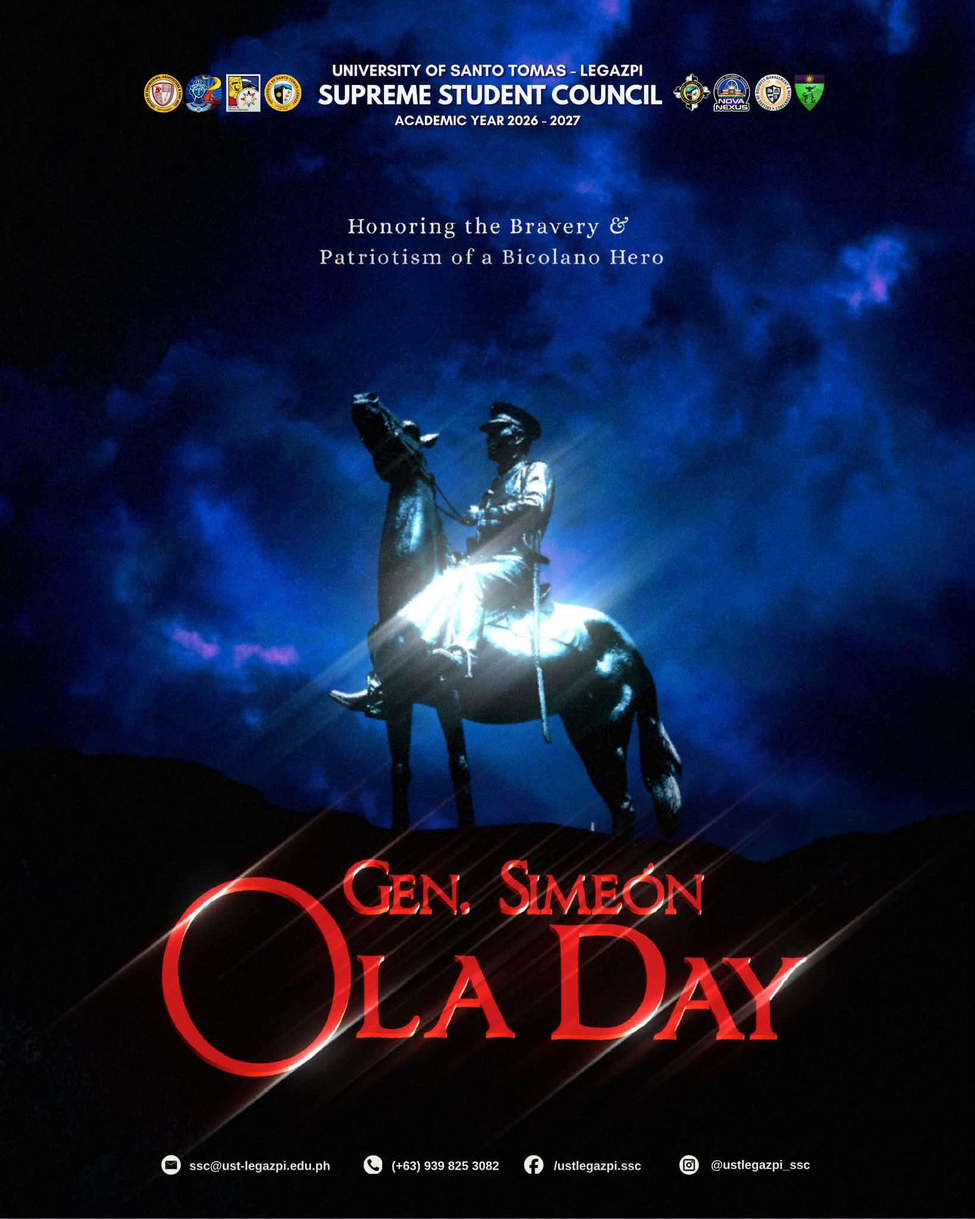embellishment: (361, 1152, 385, 1177), (160, 1152, 183, 1176), (522, 1152, 545, 1176), (679, 1152, 702, 1176)
logo: (141, 72, 185, 115), (711, 70, 752, 114), (671, 71, 713, 113), (183, 71, 224, 114), (264, 71, 304, 113), (752, 72, 793, 112), (225, 72, 263, 115), (792, 71, 828, 112)
text: (150, 846, 813, 1086), (313, 61, 668, 130), (317, 214, 668, 267), (188, 1157, 335, 1176), (390, 1158, 503, 1175), (708, 1157, 814, 1174), (550, 1157, 645, 1174)
